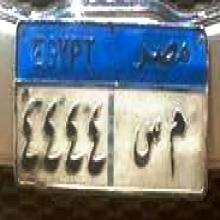4: (85, 101, 107, 182), (63, 99, 84, 179), (42, 98, 63, 177), (19, 101, 39, 174)
meem: (166, 107, 186, 182)
seen: (130, 114, 162, 175)
